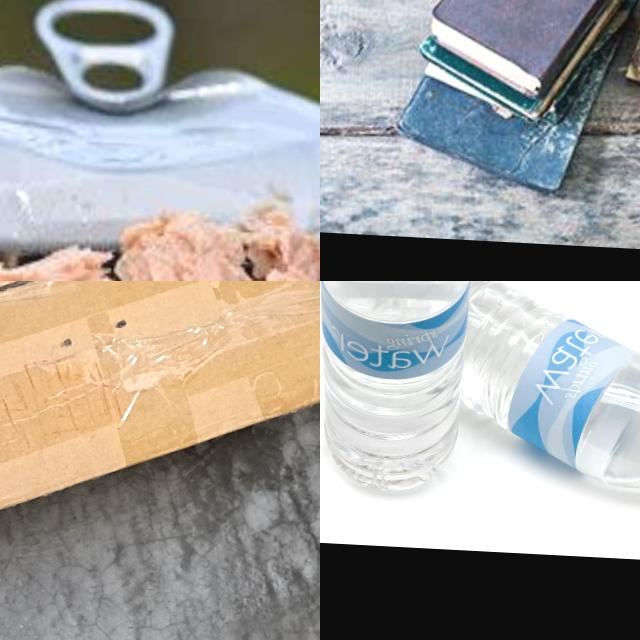aba de lata: (26, 0, 175, 116)
garrafa plástica: (462, 281, 640, 493), (320, 281, 477, 495)
lata: (0, 48, 320, 281)
papel: (393, 0, 640, 198)
papelão: (0, 281, 320, 553)
